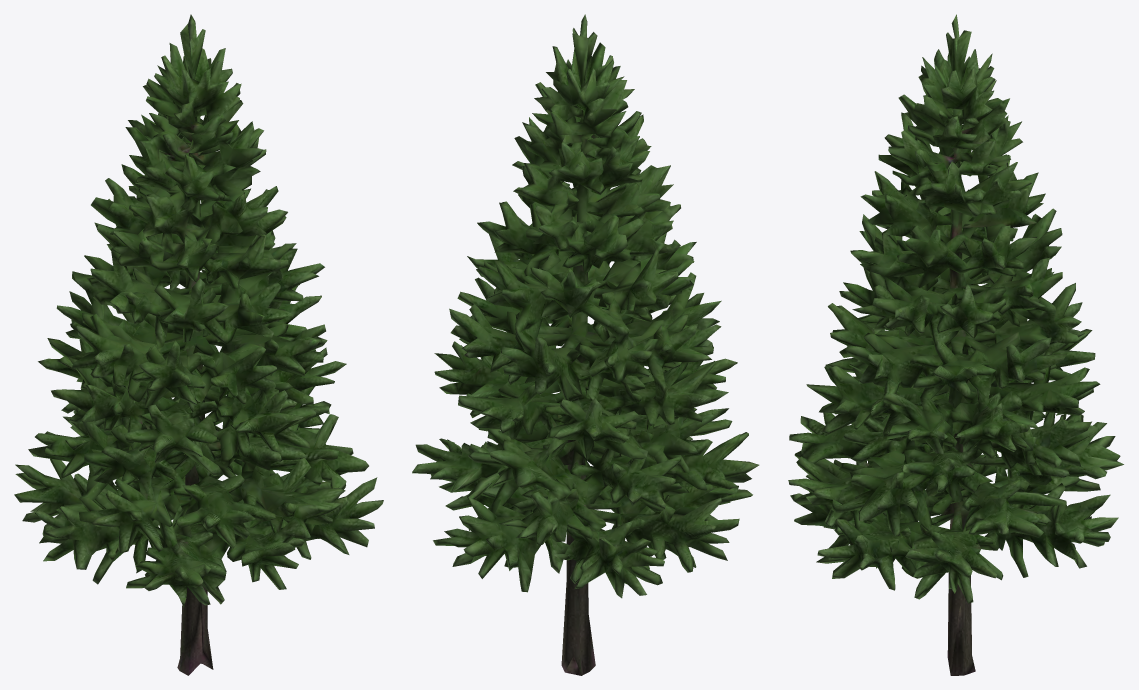
Rendered from tree_pine.glb.
3 renders of one model, left to right at view 1: azimuth 30°, elevation 25°; view 2: azimuth 150°, elevation 25°; view 3: azimuth 270°, elevation 25°, orthographic.
Parts seen in each view (by area): view 1: Mesh_0; view 2: Mesh_0; view 3: Mesh_0.
Part boxes in pixels (<box>): Mesh_0: <box>14,14,383,675</box>; Mesh_0: <box>412,14,759,675</box>; Mesh_0: <box>788,14,1123,675</box>.
Size of the model in its own units: 0.9134 by 1.91 by 0.891.
Materials: 1 (1 with a texture image).
